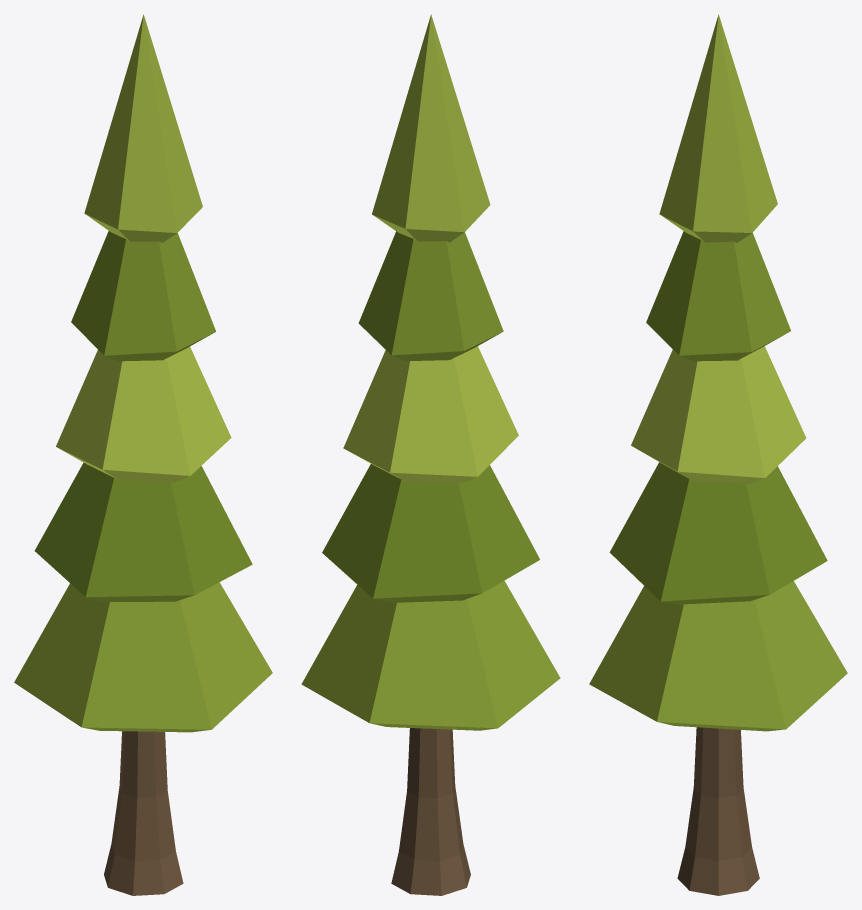
The model's file is NHP_Tree_LP_D1_8m_01.fbx.
The picture shows the model from 3 angles, left to right: view 1: azimuth 30°, elevation 25°; view 2: azimuth 150°, elevation 25°; view 3: azimuth 270°, elevation 25°; orthographic projection.
Parts seen in each view (by area): view 1: NHP_Tree_LP_D1_8m_01; view 2: NHP_Tree_LP_D1_8m_01; view 3: NHP_Tree_LP_D1_8m_01.
Part boxes in pixels (box(x1,y1,x2,y2)): NHP_Tree_LP_D1_8m_01: box(14, 14, 272, 895); NHP_Tree_LP_D1_8m_01: box(301, 14, 560, 895); NHP_Tree_LP_D1_8m_01: box(589, 14, 847, 895).
Size of the model in its own units: 1.96 by 8.25 by 2.24.
